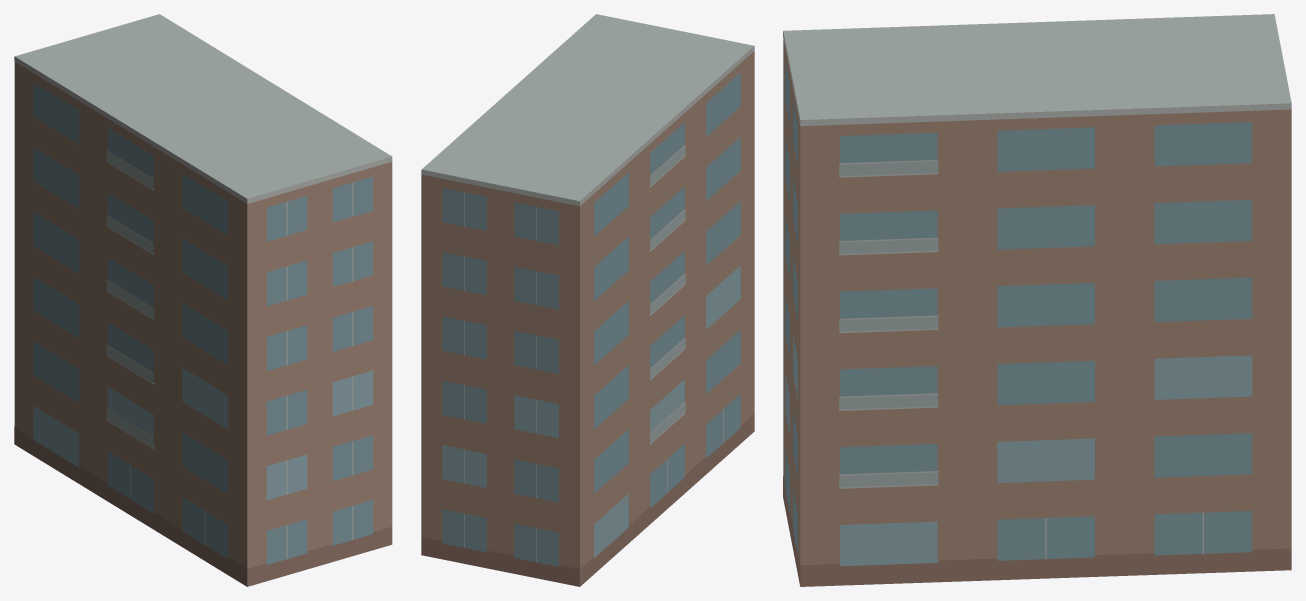
Rendered from survey-upis-32723111.glb.
3 views of the same model, side by side, from view 1: azimuth 30°, elevation 25°; view 2: azimuth 150°, elevation 25°; view 3: azimuth 270°, elevation 25° (orthographic). The views are drawn at different scales.
Parts seen in each view (by area): view 1: survey-upis-32723111.tmp; view 2: survey-upis-32723111.tmp; view 3: survey-upis-32723111.tmp.
Boxes of the visible parts, left/top/right/bottom form: survey-upis-32723111.tmp: left=14, top=14, right=392, bottom=586; survey-upis-32723111.tmp: left=421, top=14, right=754, bottom=586; survey-upis-32723111.tmp: left=783, top=14, right=1291, bottom=586.
Size of the model in its own units: 9.08 by 18.6 by 18.38.
